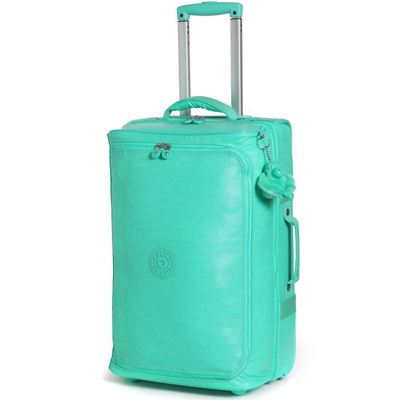luggage: (104, 0, 303, 400)
